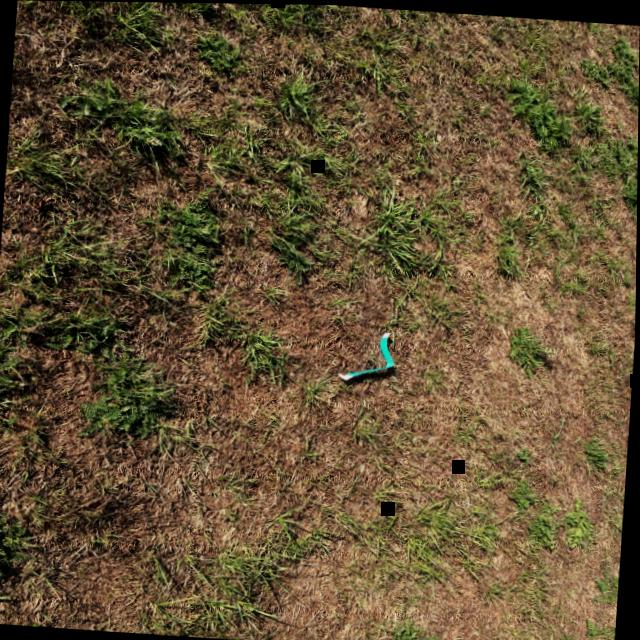Unlabeled litter: (339, 331, 394, 379)
